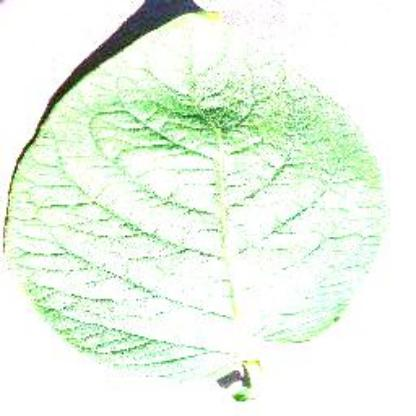Healthy-plant: (0, 12, 392, 400)
